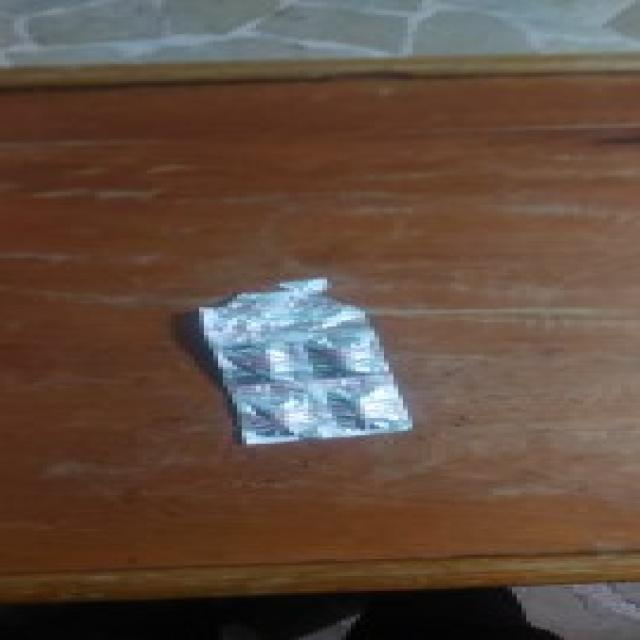Cacat: (192, 274, 414, 445)
Kemasan: (202, 274, 374, 318)
